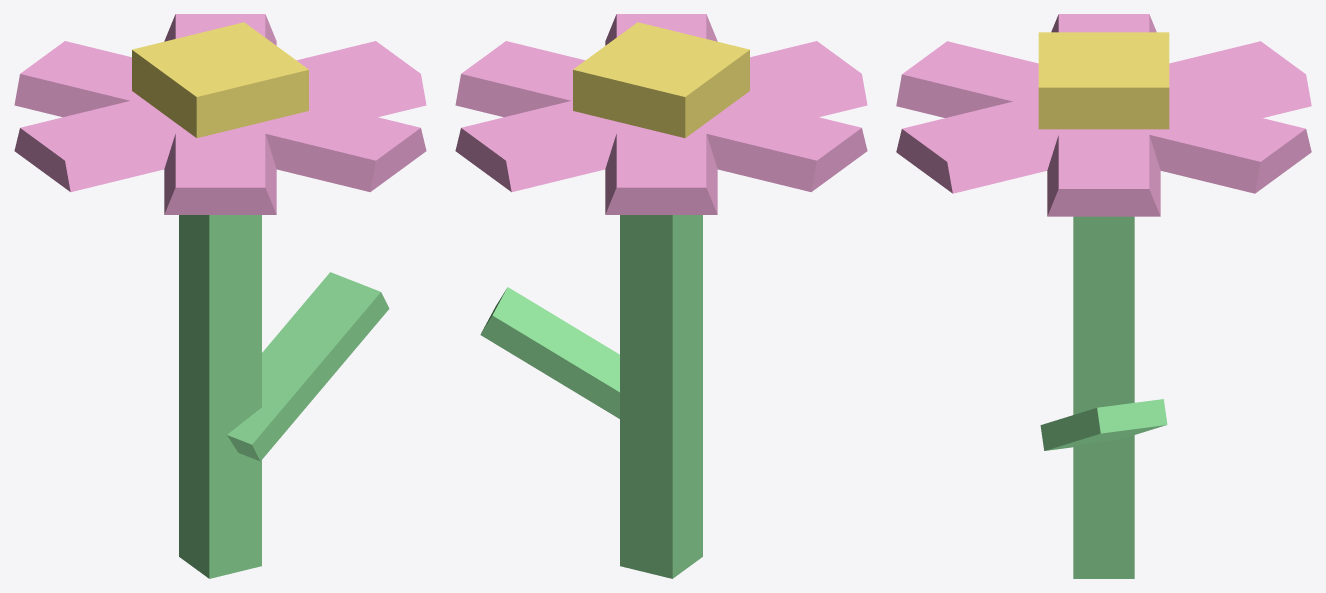
The model's file is daisy_small.glb.
3 views of the same model, side by side, from view 1: azimuth 30°, elevation 25°; view 2: azimuth 150°, elevation 25°; view 3: azimuth 270°, elevation 25° (orthographic).
Parts seen in each view (by area): view 1: daisy_small; view 2: daisy_small; view 3: daisy_small.
Boxes of the visible parts, bbox=[...] form: daisy_small: bbox=[14, 14, 426, 578]; daisy_small: bbox=[455, 14, 867, 578]; daisy_small: bbox=[896, 14, 1311, 578].
Size of the model in its own units: 0.95 by 1.28 by 0.9527.
